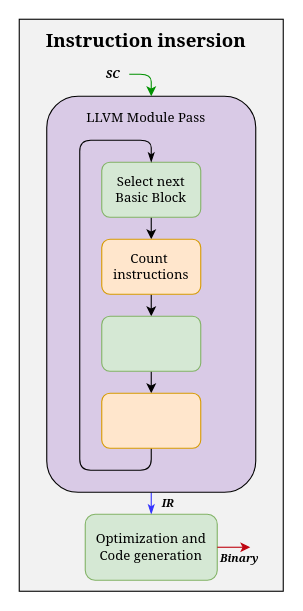
This 303x611 diagram has some shape labels left out. Here are the shapes that lost their labels. From the top down, the centre of each, then its label:
At [151,343]: "Apply code coverage recipe".
At [151,420]: "Apply performance recipe".
